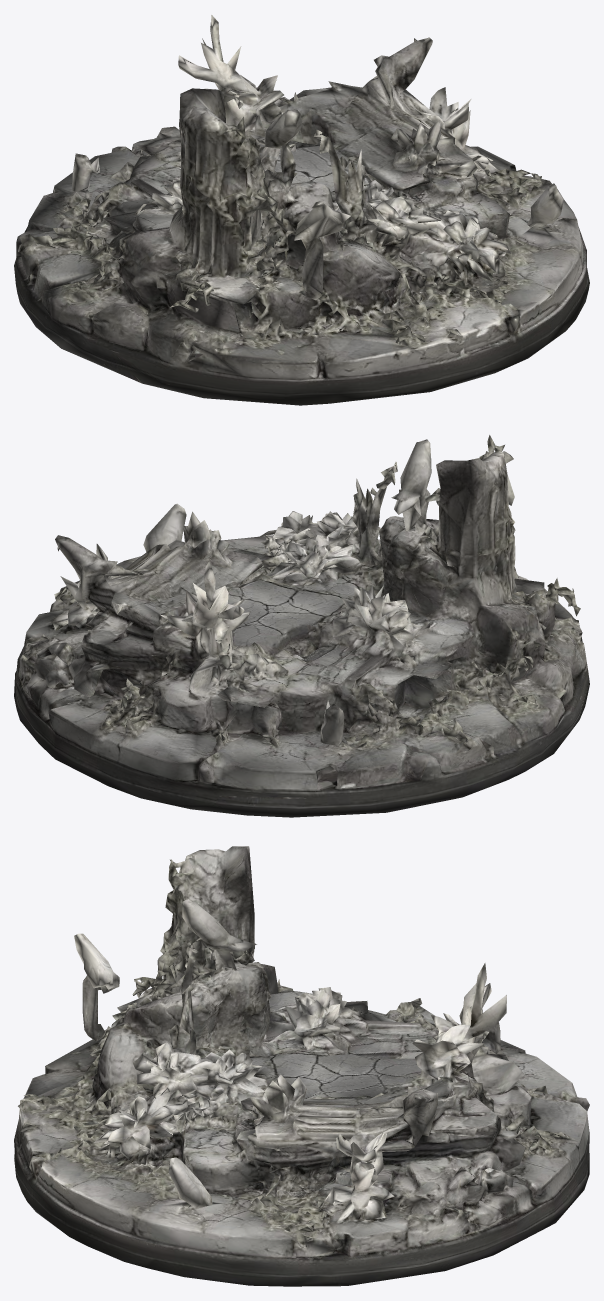
The model's file is kit_izmir_doves_ruin.glb.
The picture shows the model from 3 angles, top to bottom: view 1: azimuth 30°, elevation 25°; view 2: azimuth 150°, elevation 25°; view 3: azimuth 270°, elevation 25°; orthographic projection.
Visible parts, largest first — view 1: Mesh1.0; view 2: Mesh1.0; view 3: Mesh1.0.
Part boxes in pixels (left/top/right/bottom): Mesh1.0: left=14, top=15, right=589, bottom=405; Mesh1.0: left=14, top=435, right=589, bottom=817; Mesh1.0: left=14, top=846, right=589, bottom=1286.
Bounding box in the file's own units: 4.1 × 2 × 4.09.
1 material, 1 textured.
